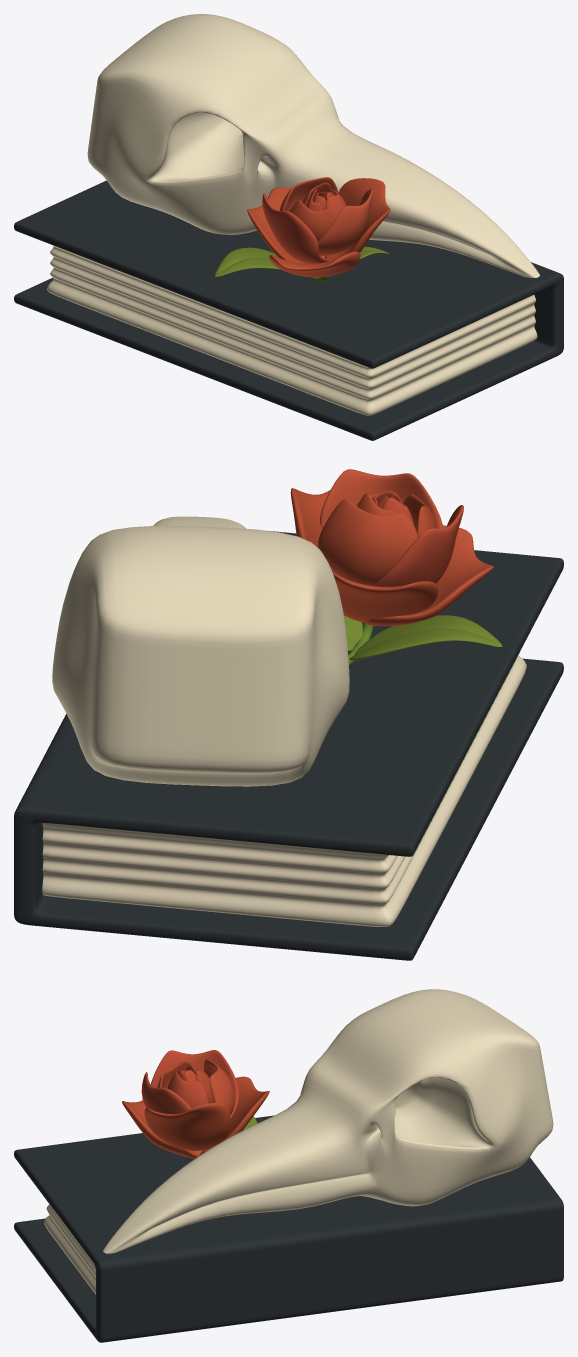
File: book.fbx
The picture shows the model from 3 angles, top to bottom: view 1: azimuth 30°, elevation 25°; view 2: azimuth 150°, elevation 25°; view 3: azimuth 270°, elevation 25°; orthographic projection. The views are drawn at different scales.
Visible parts, largest first — view 1: couverture, crane, page, petal.003, petal.002, petal.004, petal.001, petal, feuille, petal.006, petal.005; view 2: couverture, crane, page, petal.005, petal, feuille, petal.003, petal.001, petal.004, petal.002, petal.006; view 3: couverture, crane, petal.002, page, petal.003, petal, petal.004, petal.001, petal.005, petal.007.
Boxes of the visible parts, x1,y1,x2,y2 form: couverture: (14, 180, 563, 440); crane: (87, 14, 539, 277); page: (47, 245, 537, 415); petal.003: (262, 193, 330, 263); petal.002: (324, 178, 390, 260); petal.004: (317, 189, 373, 255); petal.001: (269, 251, 360, 277); petal: (247, 187, 324, 263); feuille: (215, 247, 281, 276); petal.006: (289, 200, 337, 240); petal.005: (280, 177, 338, 211); couverture: (14, 530, 563, 960); crane: (52, 516, 349, 786); page: (42, 651, 526, 926); petal.005: (317, 499, 418, 585); petal: (332, 572, 438, 622); feuille: (349, 615, 502, 660); petal.003: (373, 505, 463, 586); petal.001: (364, 525, 493, 626); petal.004: (320, 469, 443, 529); petal.002: (290, 488, 329, 546); petal.006: (403, 494, 436, 536); couverture: (14, 1115, 563, 1342); crane: (103, 989, 553, 1253); petal.002: (144, 1103, 230, 1150); page: (44, 1204, 95, 1294); petal.003: (151, 1050, 238, 1118); petal: (199, 1076, 269, 1155); petal.004: (141, 1072, 191, 1113); petal.001: (122, 1100, 201, 1158); petal.005: (203, 1059, 234, 1115); petal.007: (167, 1072, 208, 1108).
Size of the model in its own units: 1032 by 645 by 1358.
